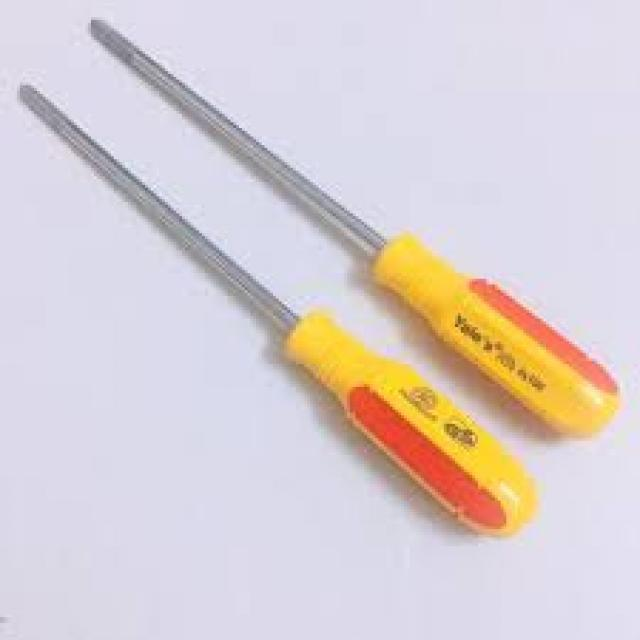screwdriver: (14, 80, 540, 544), (85, 11, 626, 444)
